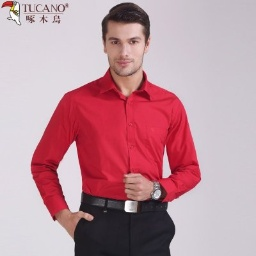face: (102, 2, 152, 78)
